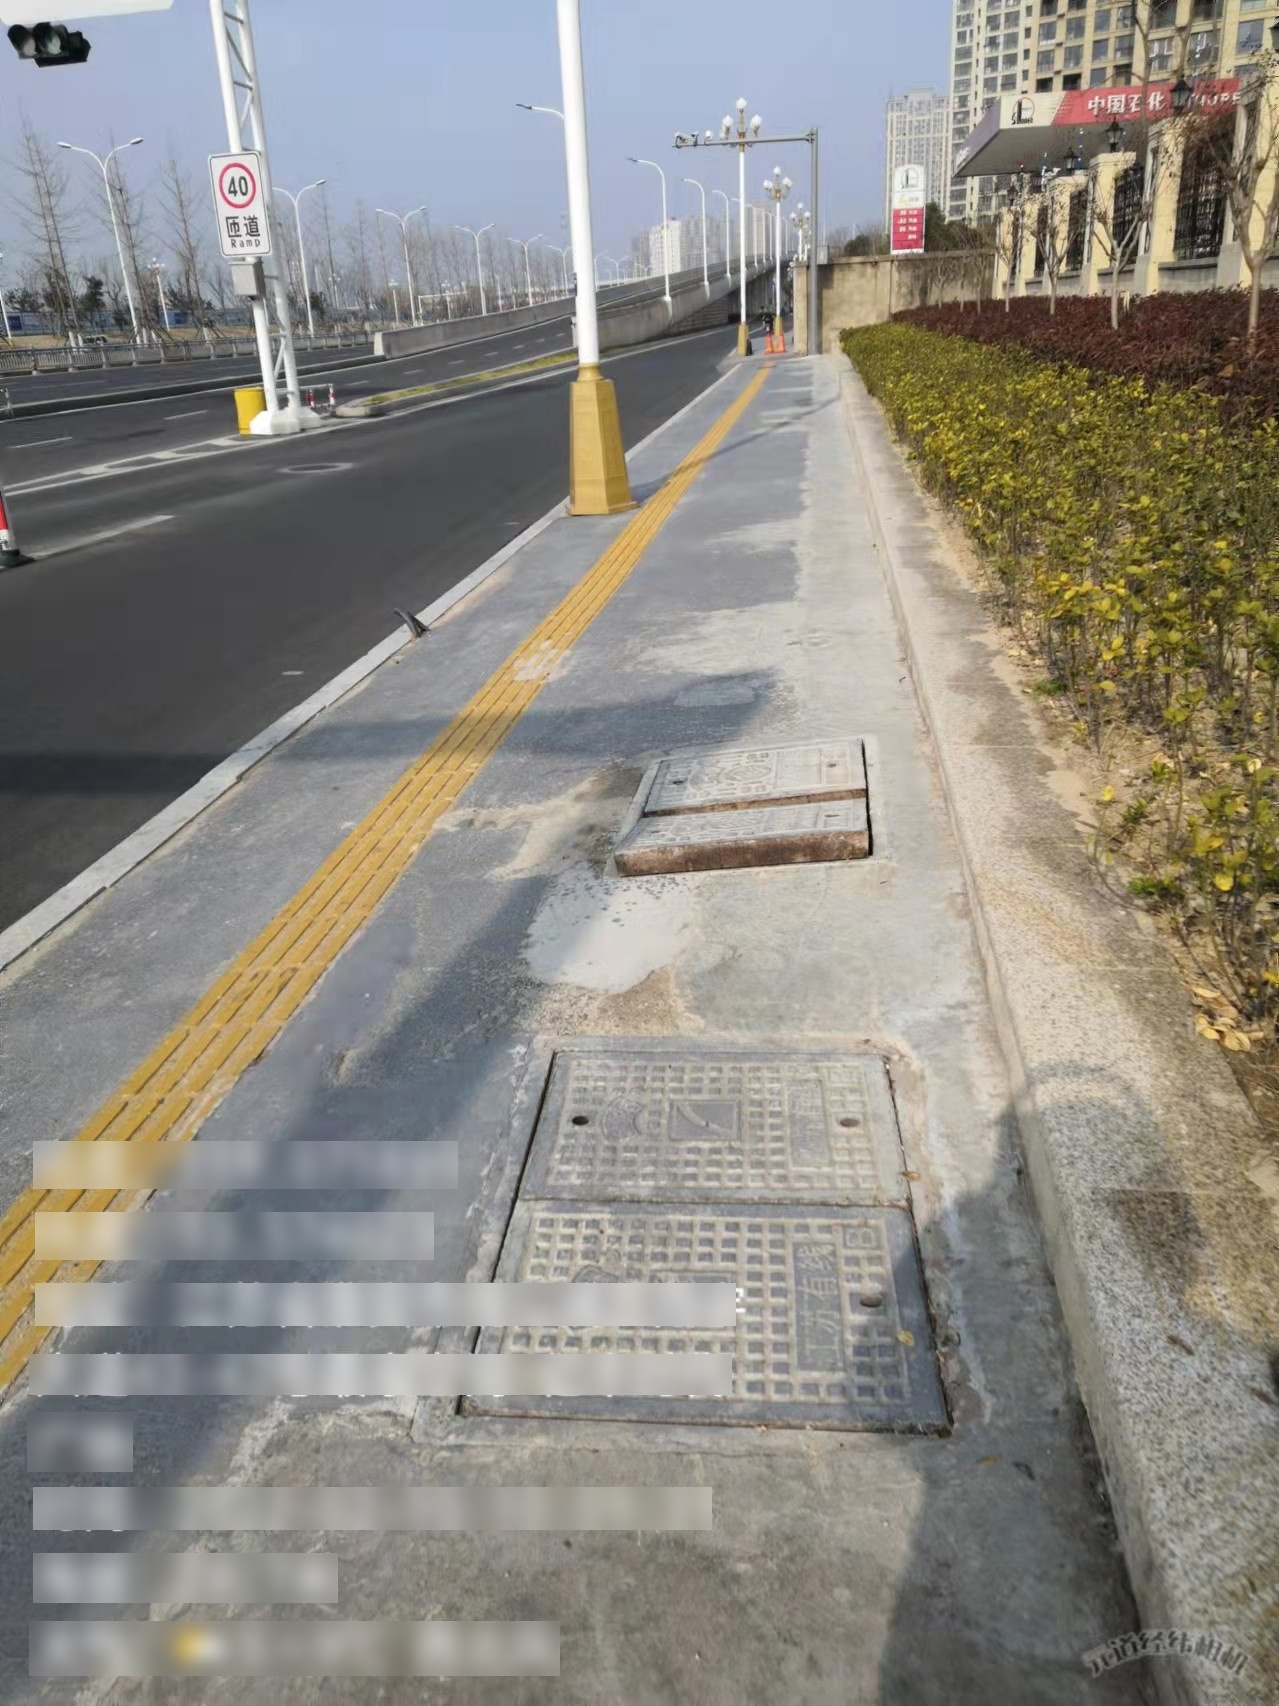well: (438, 1037, 983, 1448), (605, 733, 889, 877)
